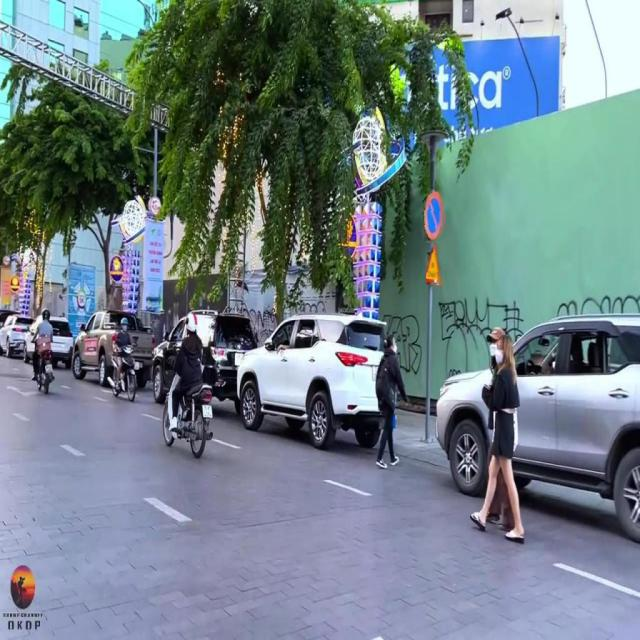cam_do_xe: (424, 188, 446, 244)
di_cham: (426, 243, 443, 286)
